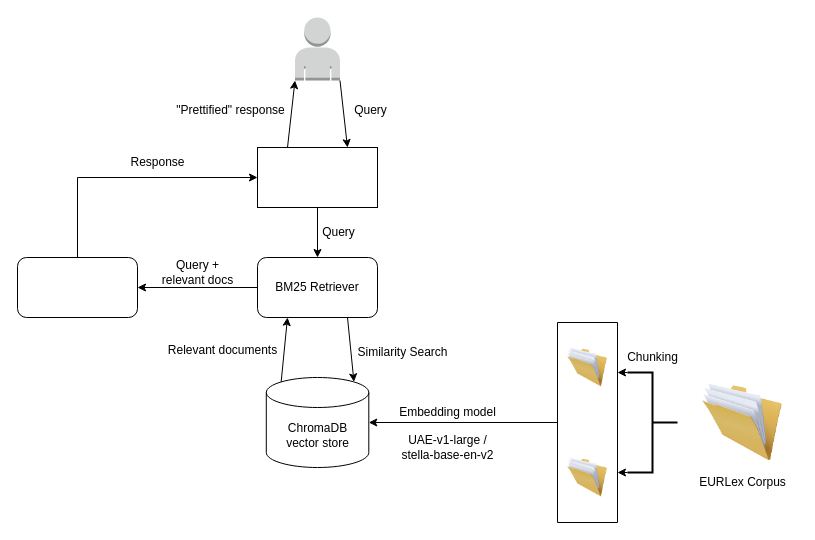
Image size: 815x540. Some labels were removed from this diagram. Each missing label, with the centre of its shape:
"Pre-trained LLM (Llama2-7b-chat-en)" belongs at (77,287).
"Python package / UI" belongs at (317,177).
